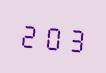three: (63, 20, 84, 55)
two: (18, 17, 39, 51)
zero: (41, 19, 62, 53)
